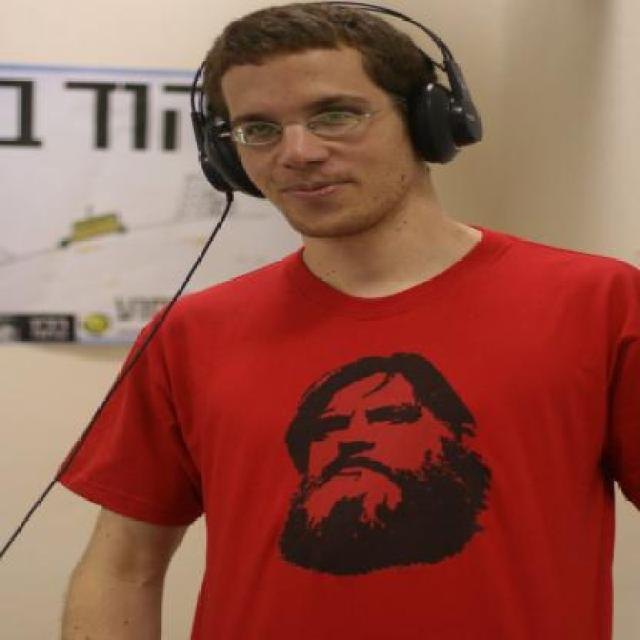earphone: (178, 0, 486, 196)
